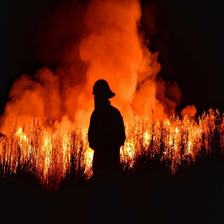fire: (2, 93, 89, 180), (129, 113, 222, 167)
